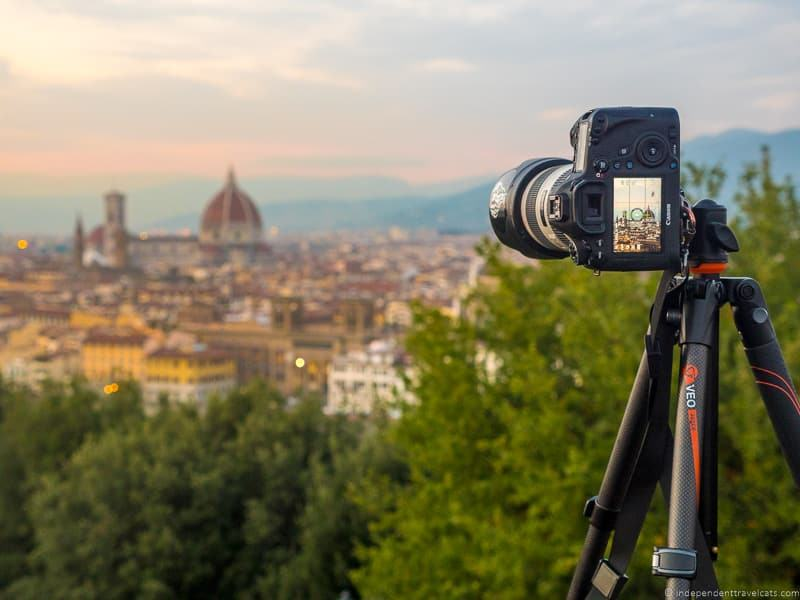camera: (486, 94, 684, 272)
